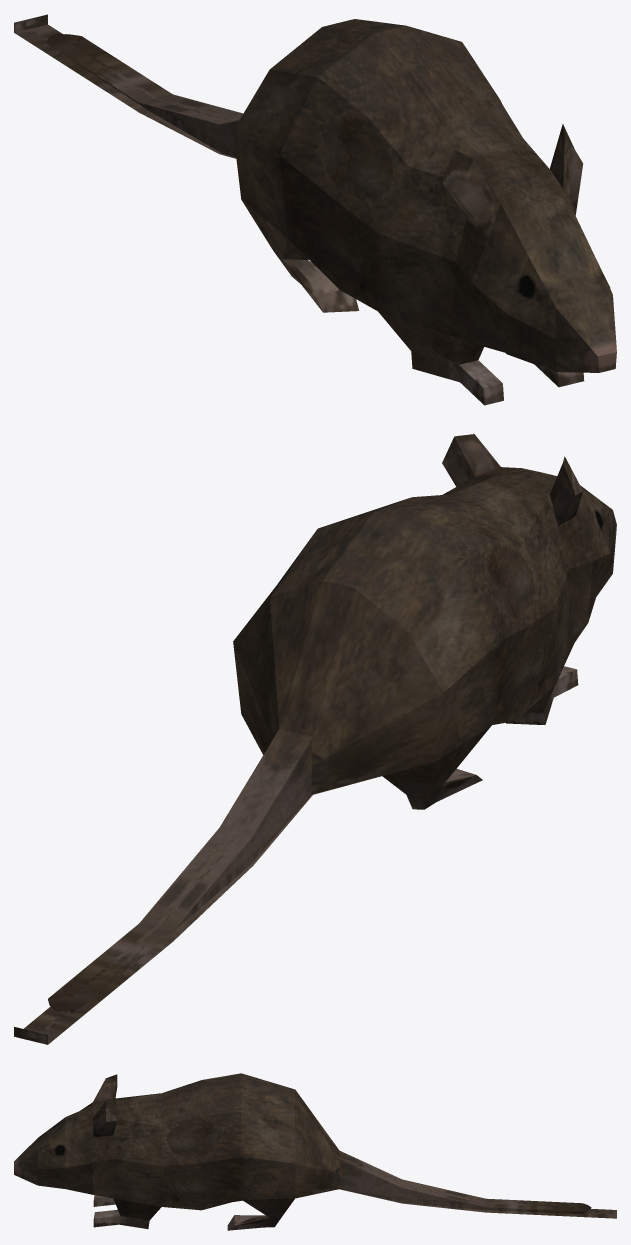
The model's file is RAT.fbx.
3 renders of one model, top to bottom at view 1: azimuth 30°, elevation 25°; view 2: azimuth 150°, elevation 25°; view 3: azimuth 270°, elevation 25°, orthographic. The views are drawn at different scales.
Parts seen in each view (by area): view 1: Cube; view 2: Cube; view 3: Cube.
Boxes of the visible parts, box(x1,y1,x2,y2) form: Cube: box(14, 14, 616, 405); Cube: box(14, 434, 616, 1044); Cube: box(14, 1073, 616, 1230).
Bounding box in the file's own units: 139 × 159 × 626.
